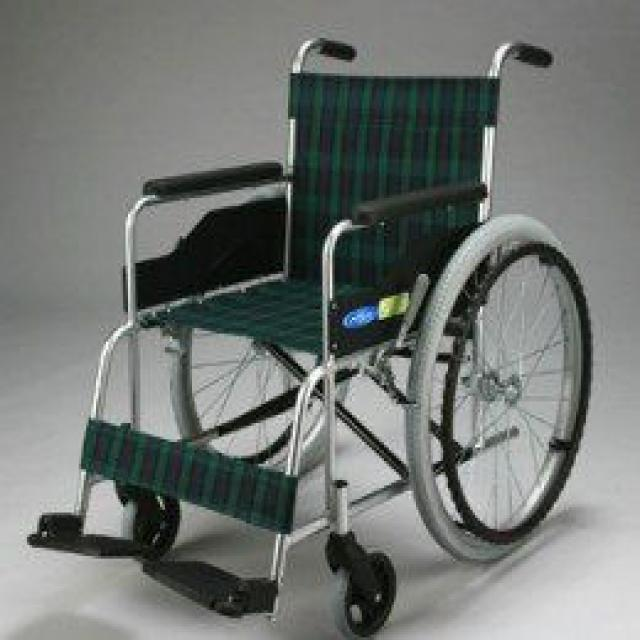wheelchair: (15, 17, 591, 638)
